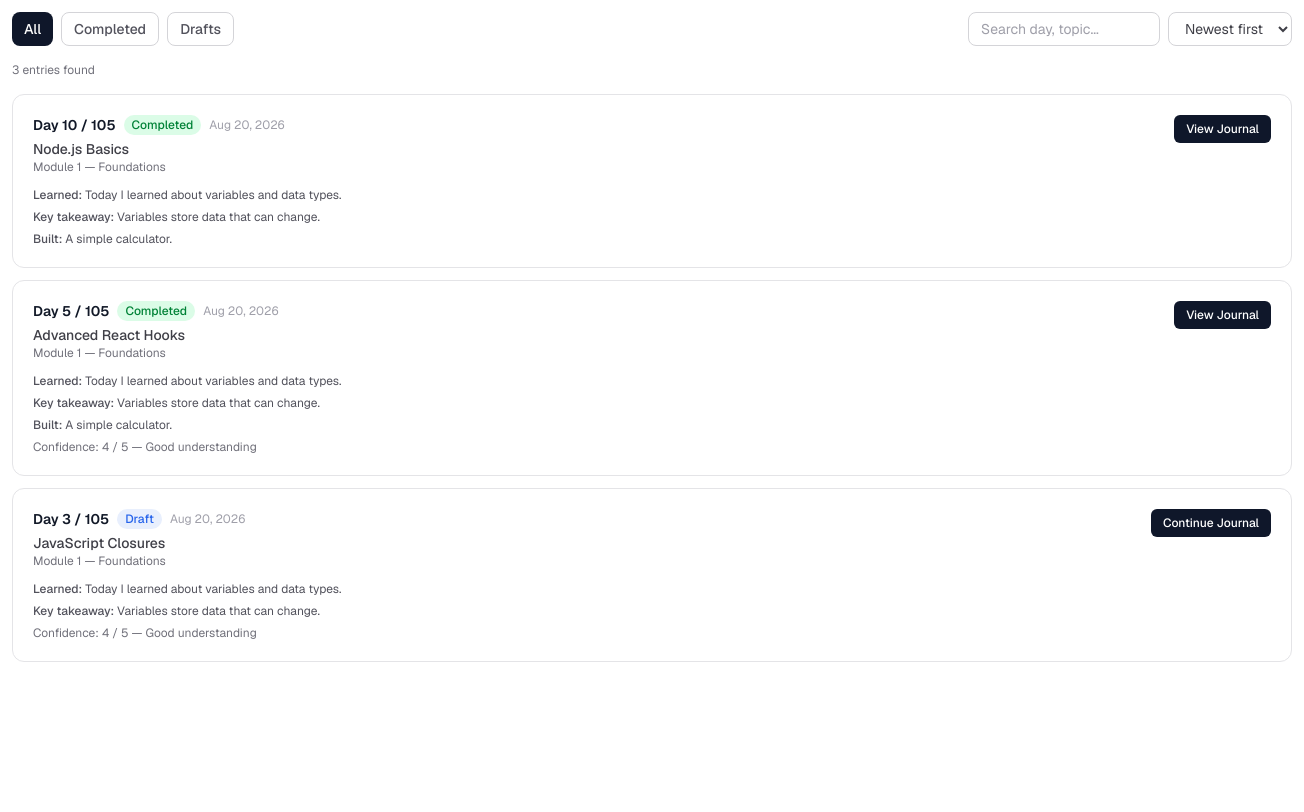
Test case: JournalHistoryList › filters draft entries
This screenshot has width=1304, height=812.
Click the button "Drafts". click: (200, 29)
box: 167,12 -> 234,46
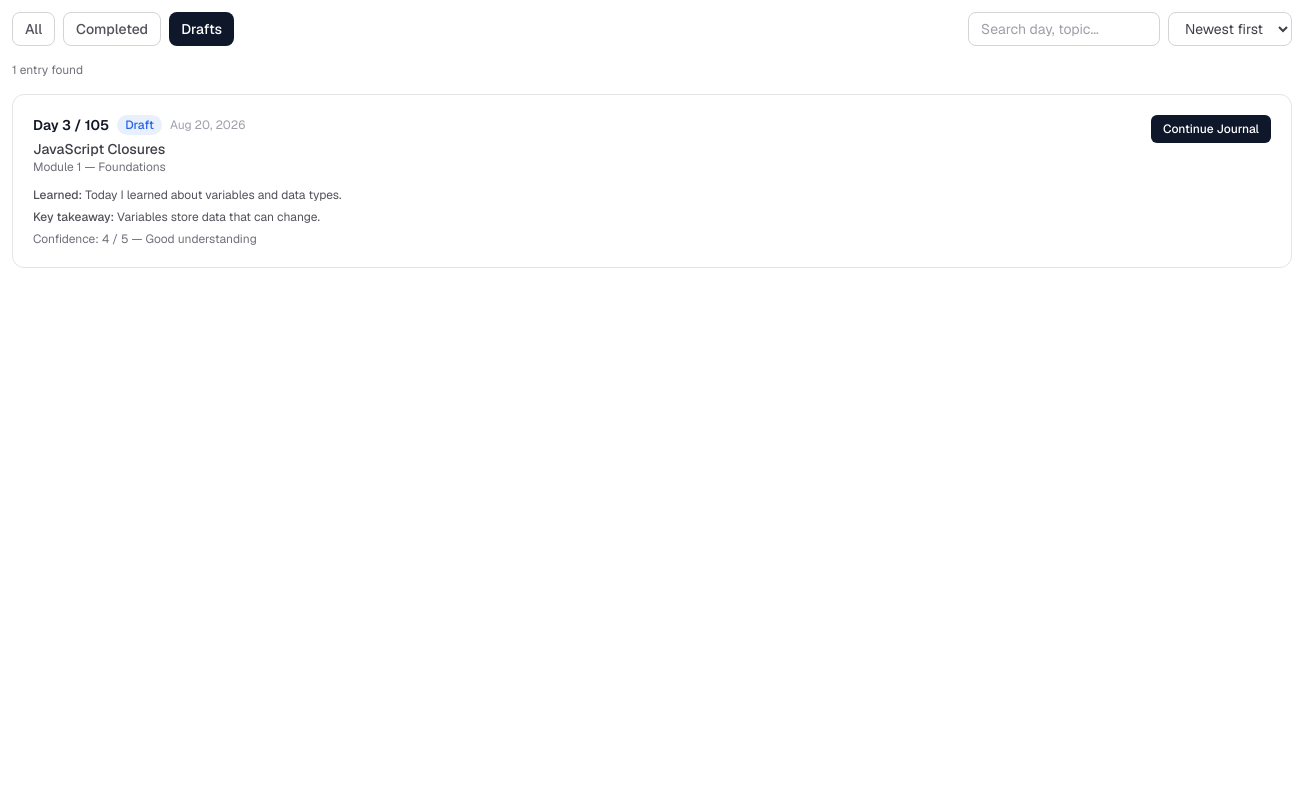
Expected: the text "Day 3 / 105" is shown, 33,115 -> 109,135
Now the text "Day 5 / 105" is gone
Now the text "Day 10 / 105" is gone
